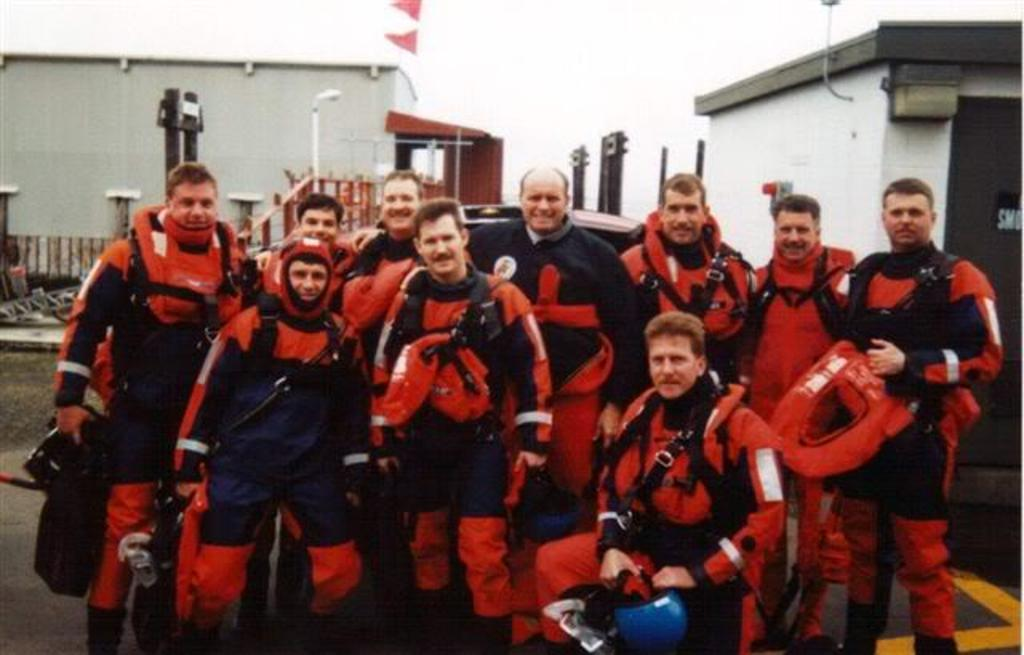face: (647, 333, 697, 400), (170, 178, 217, 238), (418, 214, 463, 274), (884, 193, 931, 246), (522, 175, 565, 231), (773, 207, 815, 262), (663, 187, 702, 246), (287, 256, 329, 308), (383, 178, 421, 232), (301, 207, 337, 248)
